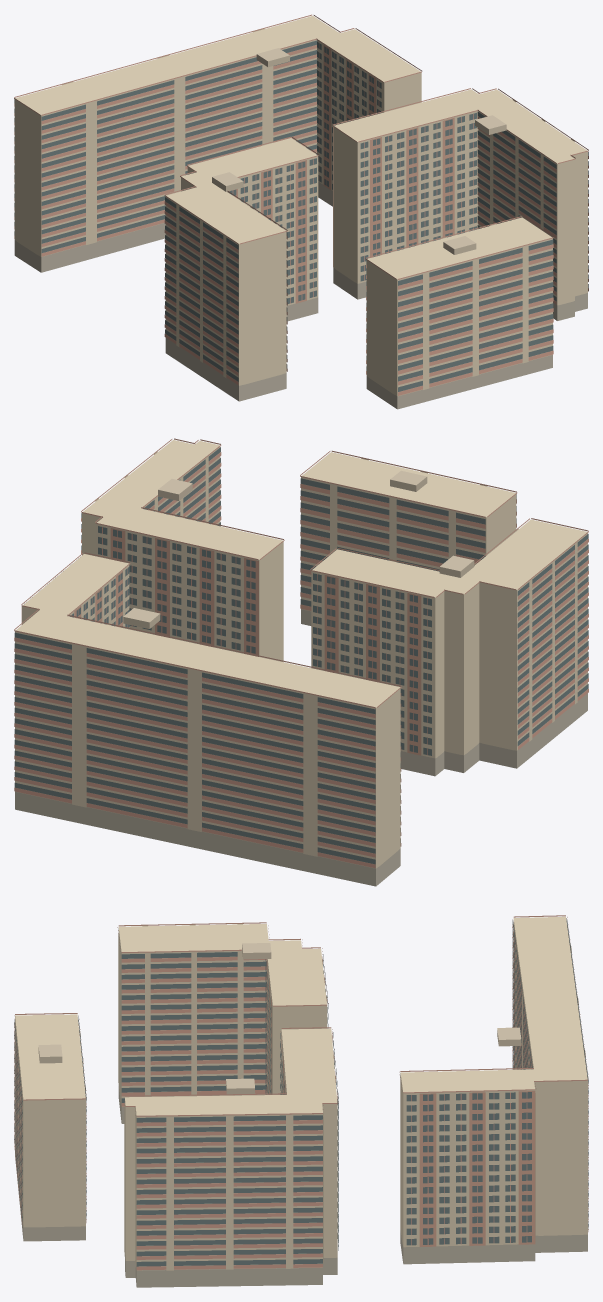
Rendered from representative-a13985107.glb.
3 renders of one model, top to bottom at view 1: azimuth 30°, elevation 25°; view 2: azimuth 150°, elevation 25°; view 3: azimuth 270°, elevation 25°, orthographic. The views are drawn at different scales.
Parts seen in each view (by area): view 1: A13985107_wall001, A13985107_glass001, A13985107_trim001, A13985107_base001, A13985107_accent001, A13985107_roof001; view 2: A13985107_wall001, A13985107_glass001, A13985107_trim001, A13985107_base001, A13985107_accent001, A13985107_roof001; view 3: A13985107_wall001, A13985107_glass001, A13985107_trim001, A13985107_base001, A13985107_accent001, A13985107_roof001.
Part boxes in pixels (x1,y1,x2,y2): A13985107_wall001: (14,16,587,396); A13985107_glass001: (14,40,588,391); A13985107_trim001: (14,14,588,395); A13985107_base001: (14,182,587,409); A13985107_accent001: (229,45,454,303); A13985107_roof001: (212,48,506,254); A13985107_wall001: (15,440,587,868); A13985107_glass001: (14,447,588,864); A13985107_trim001: (14,438,588,868); A13985107_base001: (15,609,587,886); A13985107_accent001: (21,528,421,755); A13985107_roof001: (123,470,474,628); A13985107_wall001: (15,916,587,1270); A13985107_glass001: (14,918,588,1266); A13985107_trim001: (14,915,588,1270); A13985107_base001: (15,1086,587,1287); A13985107_accent001: (266,956,535,1246); A13985107_roof001: (38,943,521,1094).
Size of the model in its own units: 100 by 41.5 by 122.
